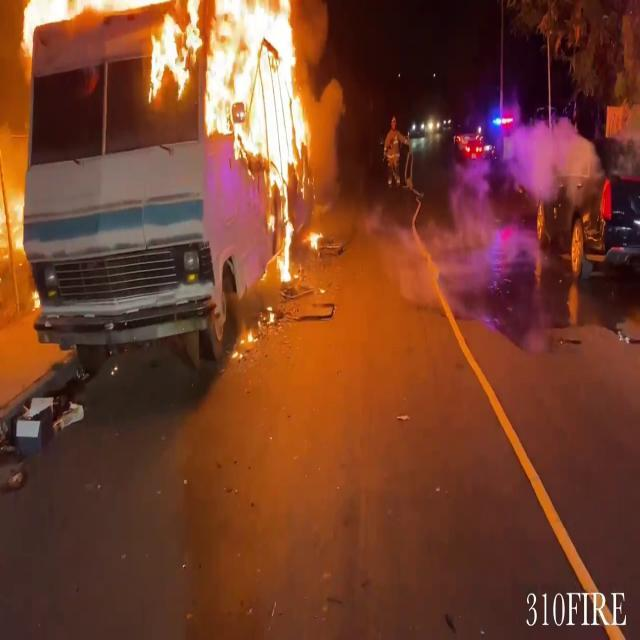Fire: (144, 0, 321, 269), (24, 0, 92, 31)
Smoke: (506, 104, 586, 214)
